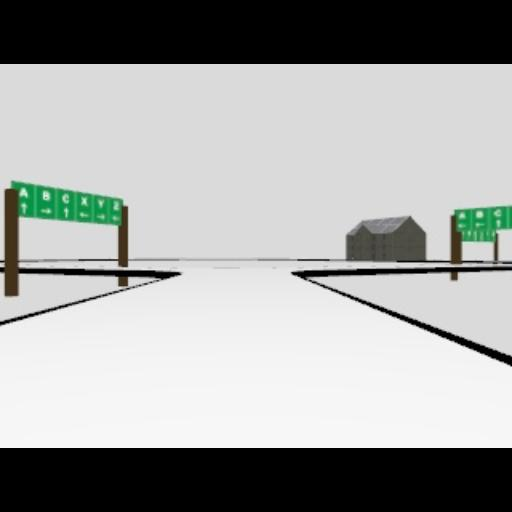A: (18, 186, 30, 198), (459, 212, 467, 220)
B: (41, 190, 53, 202), (476, 210, 484, 218)
C: (62, 192, 70, 204), (494, 210, 502, 216)
Left: (80, 211, 90, 219), (474, 222, 486, 228), (113, 214, 121, 222), (458, 222, 466, 228)
Right: (40, 207, 52, 215), (95, 212, 107, 220)
Straight: (20, 202, 28, 214), (62, 208, 70, 218), (495, 220, 501, 226)
X: (80, 196, 90, 206)
Y: (96, 198, 106, 210)
Z: (112, 201, 120, 211)
